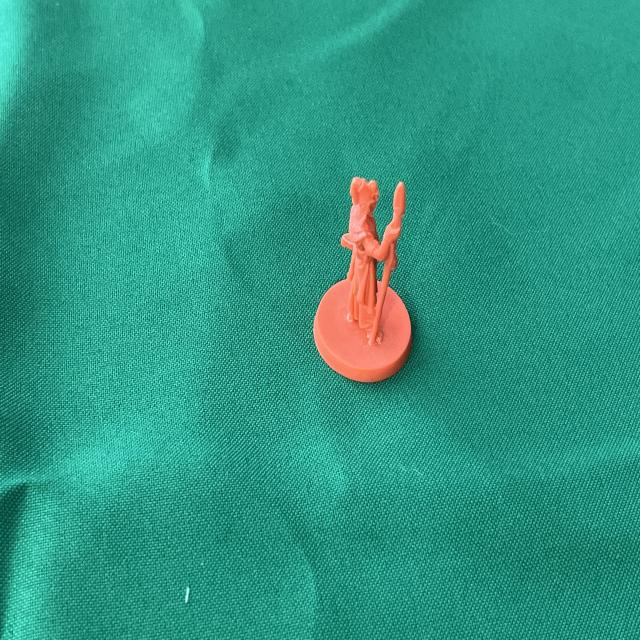amon_follower: (314, 177, 411, 382)
